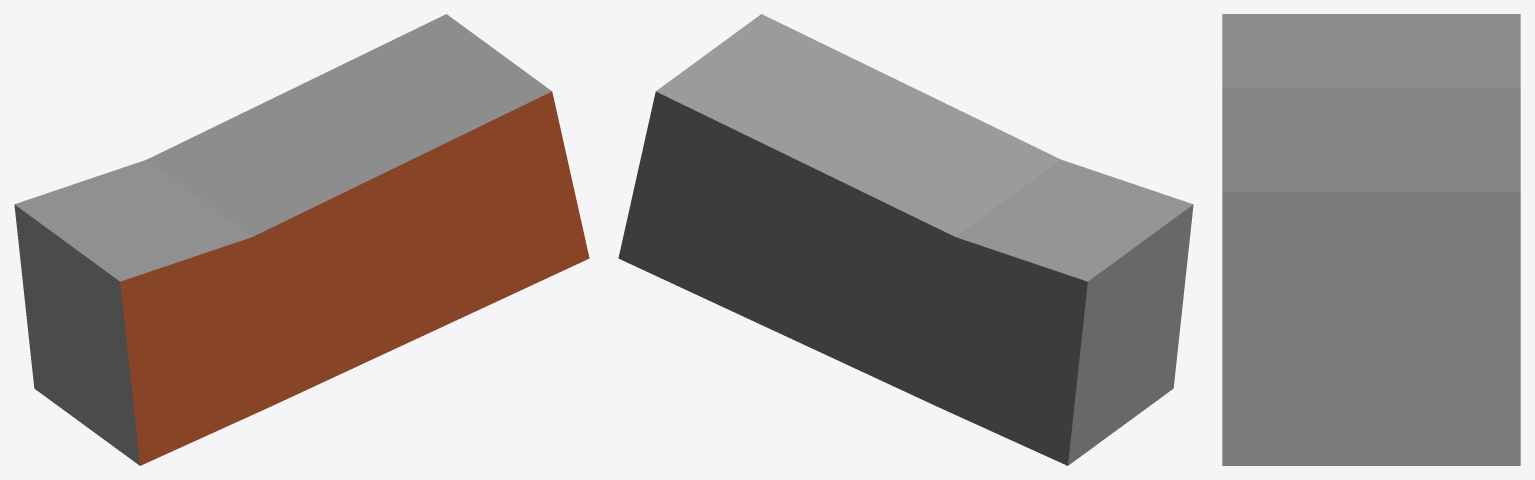
Rendered from construction_6055_assumed_A_Casa_h6m.obj.
The picture shows the model from 3 angles, left to right: view 1: azimuth 30°, elevation 25°; view 2: azimuth 150°, elevation 25°; view 3: azimuth 270°, elevation 25°; orthographic projection. The views are drawn at different scales.
Parts seen in each view (by area): view 1: construction_6055_assumed_A_Casa; view 2: construction_6055_assumed_A_Casa; view 3: construction_6055_assumed_A_Casa.
Part boxes in pixels (x1,y1,x2,y2): construction_6055_assumed_A_Casa: [14, 14, 589, 465]; construction_6055_assumed_A_Casa: [618, 14, 1193, 465]; construction_6055_assumed_A_Casa: [1222, 14, 1520, 465].
Bounding box in the file's own units: 15.38 × 8.58 × 6.
